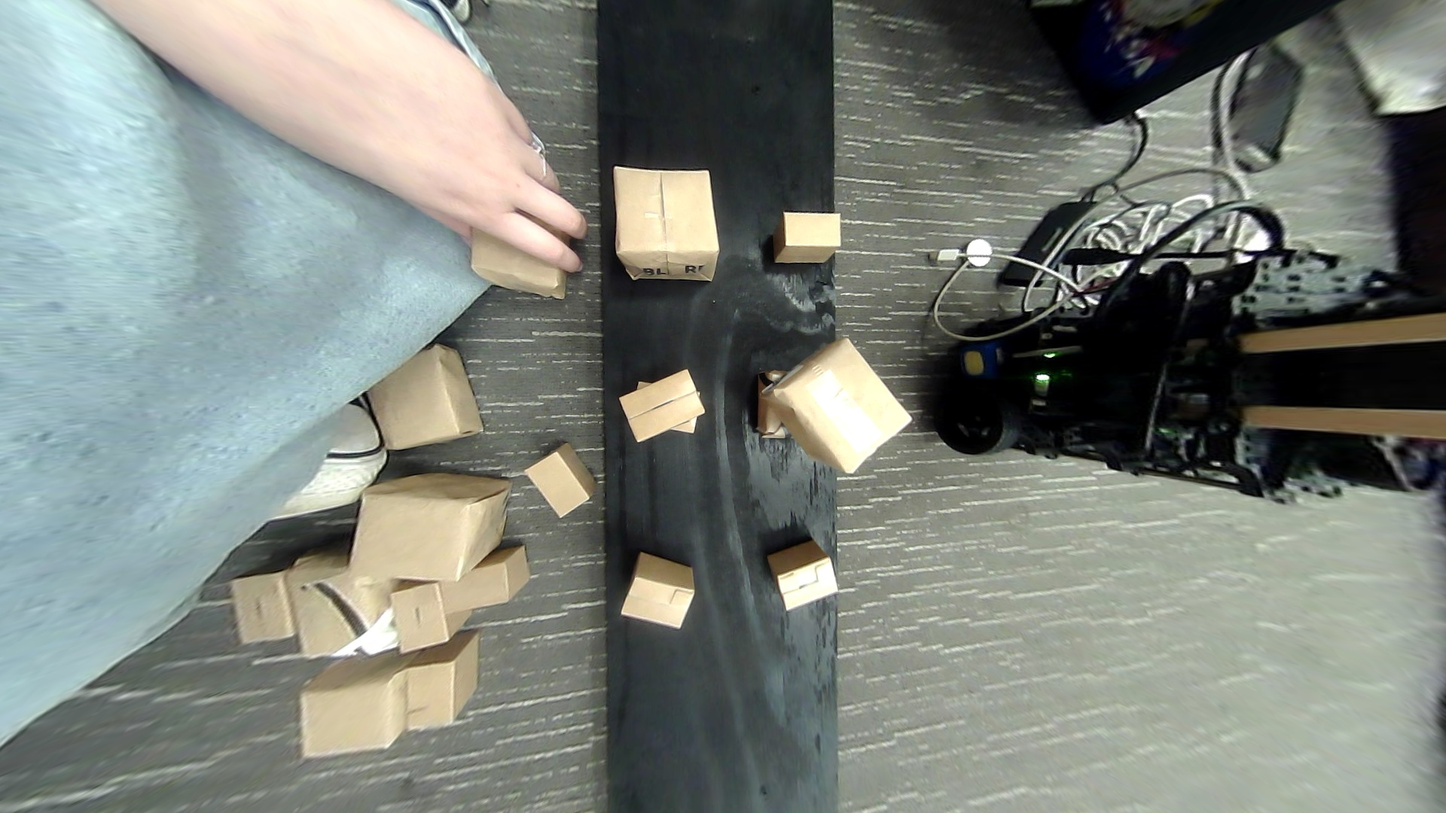empty_space: (737, 7, 834, 167), (607, 664, 708, 805), (752, 653, 840, 812), (599, 6, 709, 132)
package: (746, 340, 903, 474), (606, 167, 720, 284), (624, 372, 703, 445), (621, 555, 689, 632), (764, 537, 840, 604), (767, 212, 839, 264)
